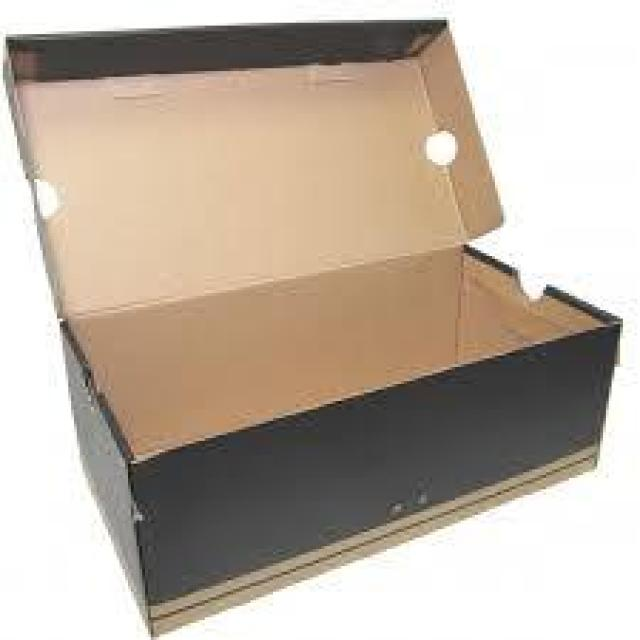box: (1, 18, 623, 638)
